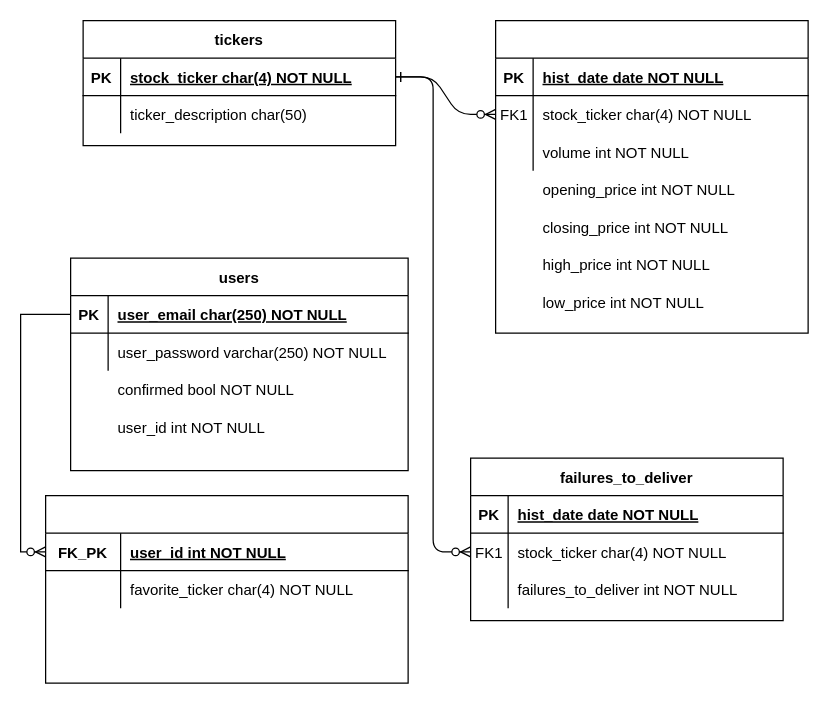
This 829x704 diagram has some shape labels left out. The shapes that lost their labels are listed below. From the top down, each one's box as (x1, y1, x2, y2) in pixels, then its label:
(494, 19, 808, 333): price_history
(44, 494, 408, 683): favorite_stocks
